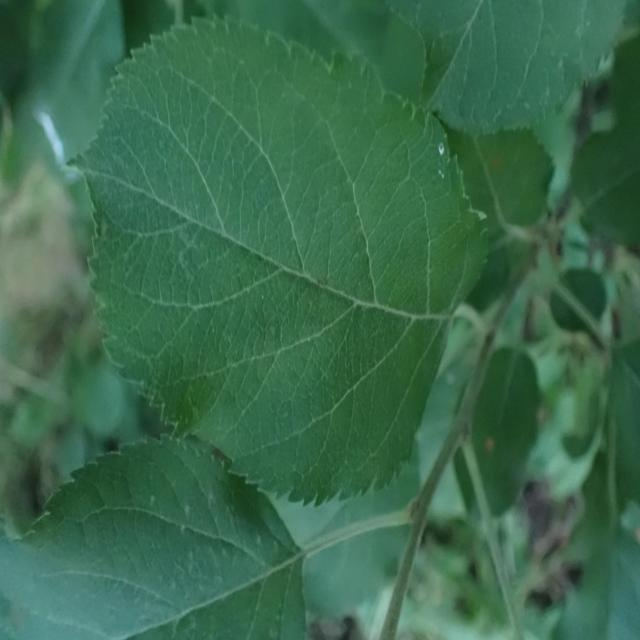healthy: (65, 14, 491, 508), (0, 432, 307, 640), (383, 0, 637, 134)
